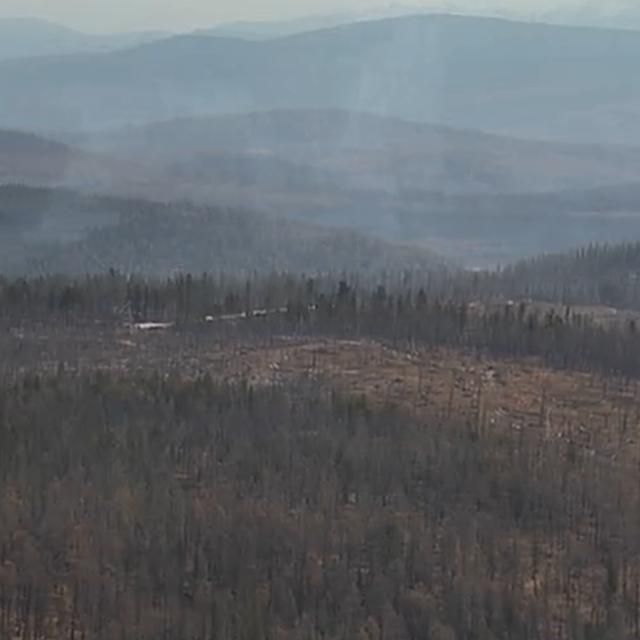Smoke: (0, 76, 640, 326)
